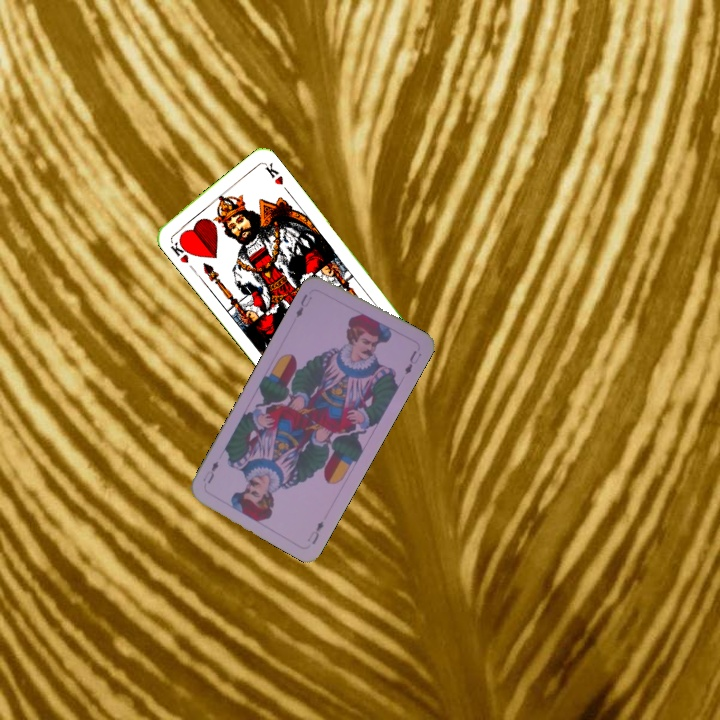EU: (292, 290, 315, 320), (306, 517, 326, 547)
HK: (166, 235, 195, 266)
